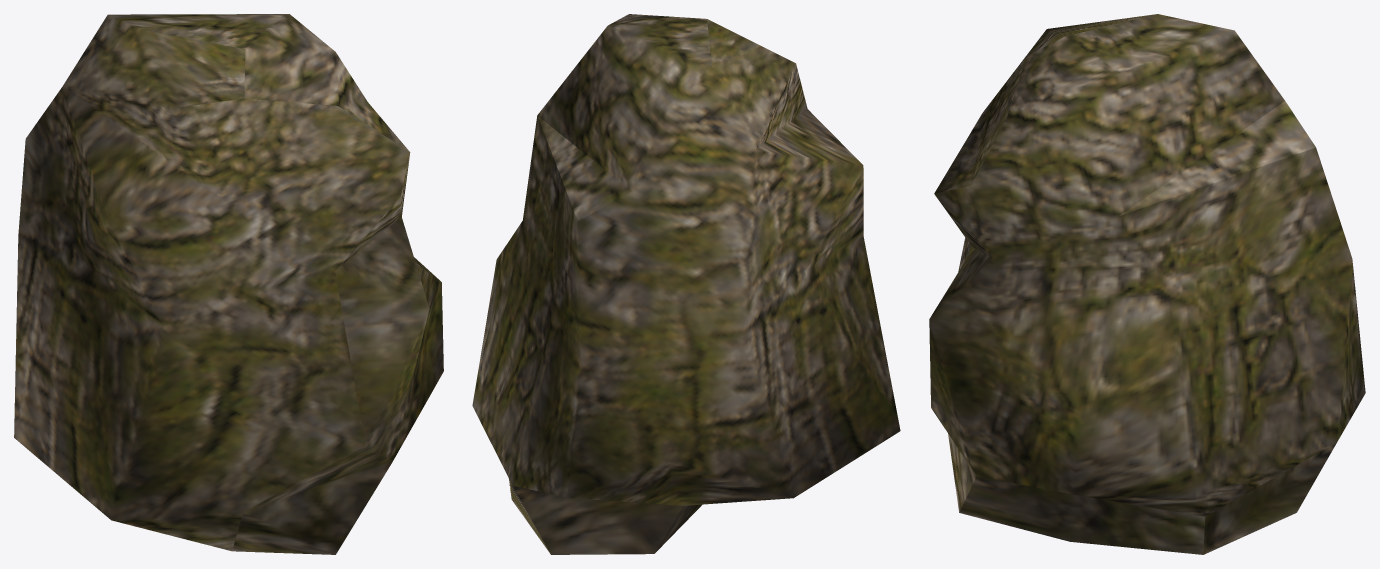
The model's file is SM_EN_2005_shitou01.FBX.
3 views of the same model, side by side, from view 1: azimuth 30°, elevation 25°; view 2: azimuth 150°, elevation 25°; view 3: azimuth 270°, elevation 25° (orthographic). The views are drawn at different scales.
Visible parts, largest first — view 1: SM_EN_2005_shitou01; view 2: SM_EN_2005_shitou01; view 3: SM_EN_2005_shitou01.
Boxes of the visible parts, x1,y1,x2,y2 form: SM_EN_2005_shitou01: (14, 14, 443, 554); SM_EN_2005_shitou01: (472, 14, 900, 554); SM_EN_2005_shitou01: (929, 14, 1365, 554).
Size of the model in its own units: 859 by 1045 by 900.
